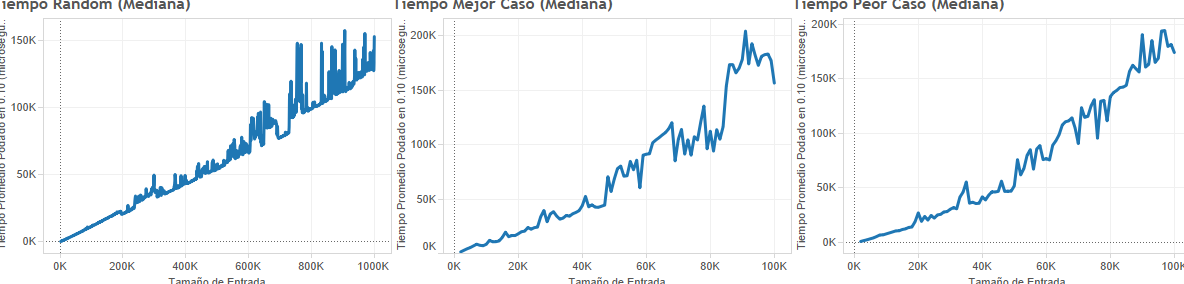

This screenshot's page, from the dashboard's own definition file:
{"tool":"tableau","page":{"name":"Tiempo de Median (mejores y peores casos) Dash","canvas":[600,300],"ordinal":2},"visuals":[{"type":"worksheet","title":"Tiempo de Median (mejores y peores casos)","mark":"Line","rows":["value"],"cols":["Calculation_2760904085020538"],"box":[0,0,596,300]},{"type":"legend","title":"Tiempo de Median (mejores y peores casos)","param":"[textscan.42250.933698206019].[none:name:nk]","box":[449,179,140,55]}]}

Visuals, with their boxes on the page's 600x300 design canvas (x1, y1, x2, y2). These are canvas units, not pixel positions in the 1184x284 screenshot, which may show the page scaled, cropped or inside an application window:
"Tiempo de Median (mejores y peores casos)" worksheet (Line marks): 0,0,596,300
"Tiempo de Median (mejores y peores casos)" legend: 449,179,589,234
